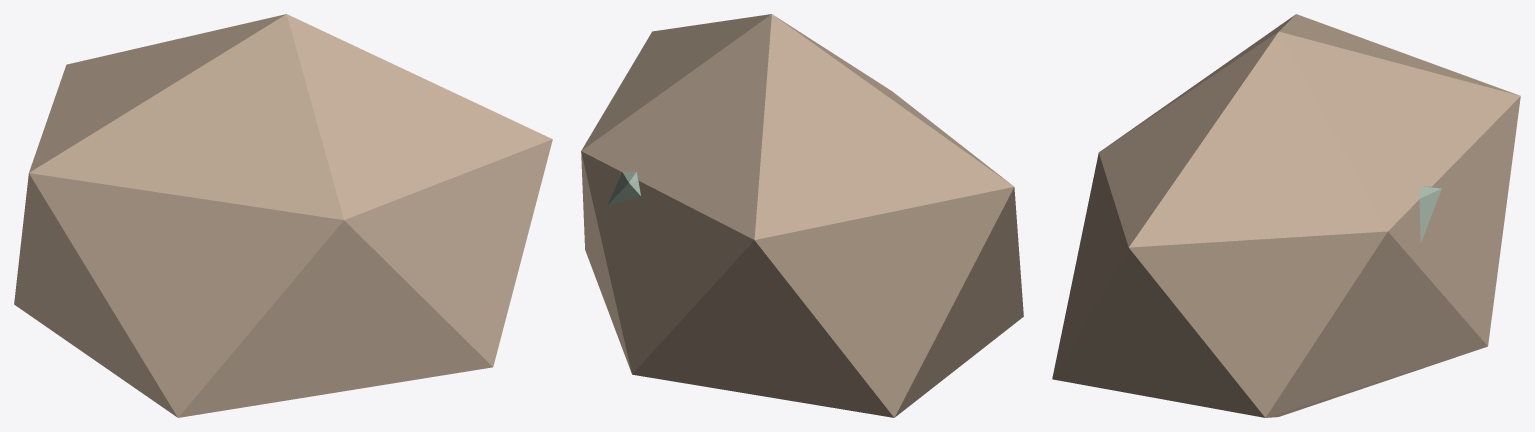
Rendered from OreBoulderB.glb.
3 renders of one model, left to right at view 1: azimuth 30°, elevation 25°; view 2: azimuth 150°, elevation 25°; view 3: azimuth 270°, elevation 25°, orthographic.
Parts seen in each view (by area): view 1: Ore boulder.001; view 2: Ore boulder.001, Malachite stain.001; view 3: Ore boulder.001, Malachite stain.001.
Part boxes in pixels (x1,y1,x2,y2): Ore boulder.001: [14, 14, 552, 417]; Ore boulder.001: [581, 14, 1023, 417]; Malachite stain.001: [607, 171, 640, 205]; Ore boulder.001: [1052, 14, 1520, 417]; Malachite stain.001: [1419, 186, 1441, 242].
Bounding box in the file's own units: 1.33 × 1.09 × 1.2.
